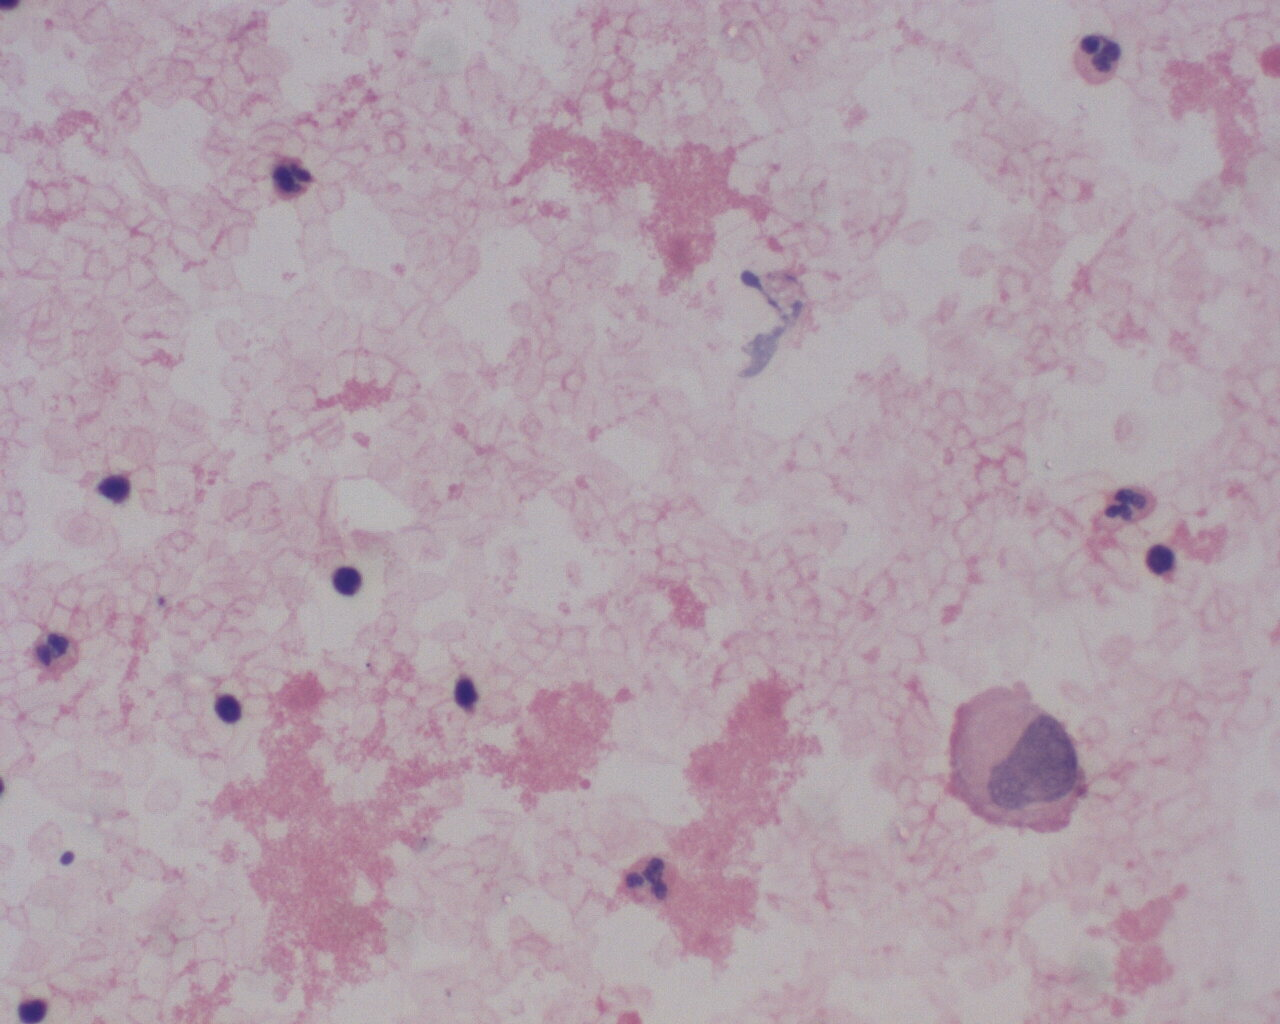ab: (946, 679, 1091, 835)
lymph: (207, 686, 252, 730), (325, 559, 365, 603), (1143, 541, 1182, 580)
neutro: (1065, 24, 1125, 89), (621, 852, 678, 910)
